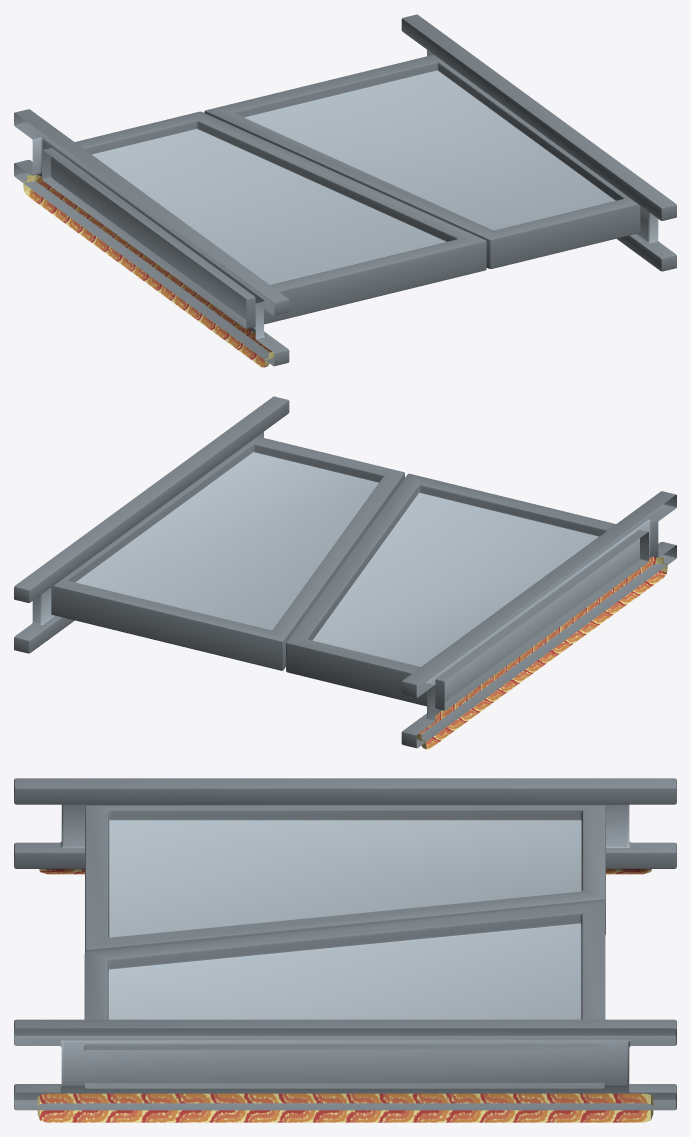
The model's file is SM_TrapDoor_50x250.fbx.
3 views of the same model, one above another, from view 1: azimuth 30°, elevation 25°; view 2: azimuth 150°, elevation 25°; view 3: azimuth 270°, elevation 25° (orthographic). The views are drawn at different scales.
Visible parts, largest first — view 1: SM_TrapDoor_50x250; view 2: SM_TrapDoor_50x250; view 3: SM_TrapDoor_50x250.
Part boxes in pixels (bbox=[...]): SM_TrapDoor_50x250: bbox=[14, 14, 676, 367]; SM_TrapDoor_50x250: bbox=[14, 396, 676, 749]; SM_TrapDoor_50x250: bbox=[14, 778, 676, 1122].
Size of the model in its own units: 250 by 280 by 43.93.
1 material, 1 textured.
